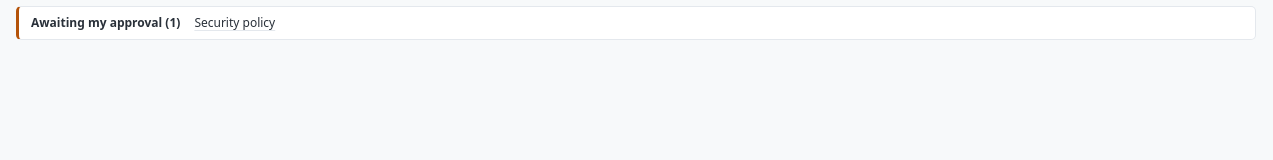
failed retrieval leaves the pending list and an actionable error instead of opening partial content
Later steps or results of the test are not shown.
Click the button "Security policy" at (235,23), box [194,14,275,32]
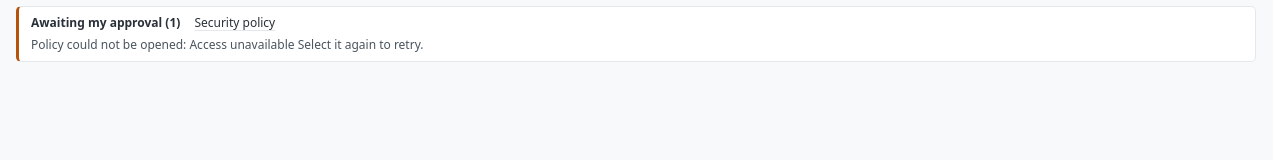
Result: the message "Policy could not be opened: Access unavailable Select it again to retry." is shown at [31,36,424,53]
